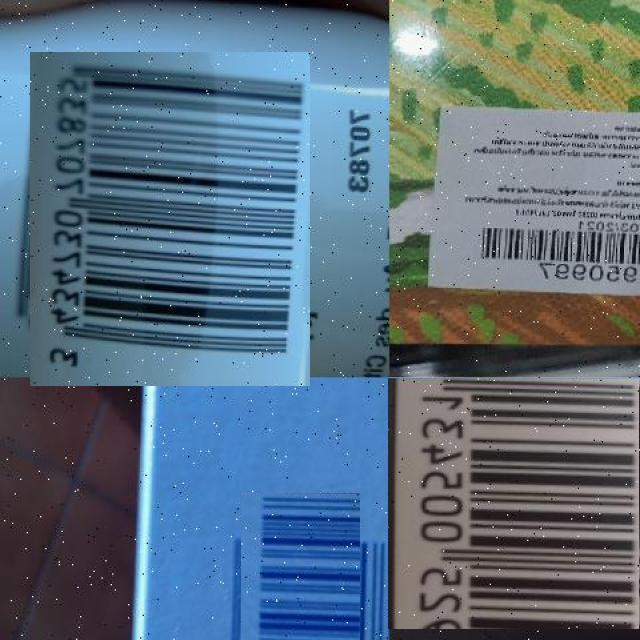Barcode: (16, 66, 324, 373), (388, 377, 640, 630), (226, 506, 374, 640), (468, 222, 640, 278)
